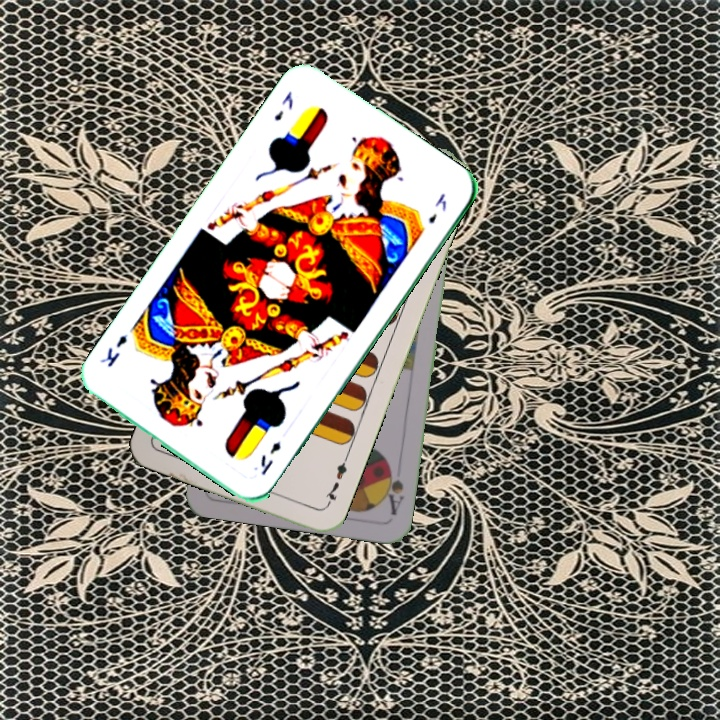E7: (321, 453, 351, 510)
EK: (256, 437, 284, 478), (270, 87, 296, 124)
SA: (379, 458, 406, 518)
